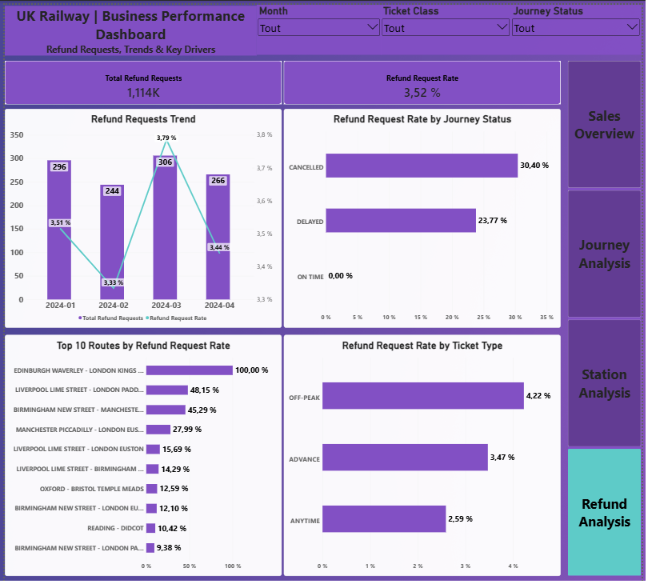

The dashboard page shown, as its layout file describes it:
{"tool":"powerbi","page":{"name":"Refund Analysis","canvas":[2200,2000],"ordinal":3},"visuals":[{"type":"lineClusteredColumnComboChart","title":"Refund Requests Trend","fields":{"Category":["gold dim_purchase_date.Year_Month"],"Y":["Measure_Table.Total Refund Requests"],"Y2":["Measure_Table.Refund Request Rate"]},"box":[0,360,956.7,756.7],"z":0},{"type":"clusteredBarChart","title":"Refund Request Rate by Journey Status","fields":{"Category":["gold fact_sales.Journey_Status"],"Y":["Measure_Table.Refund Request Rate"]},"box":[963.3,360,956.7,756.7],"z":1000},{"type":"clusteredBarChart","title":"Top 10 Routes by Refund Request Rate","fields":{"Category":["gold fact_sales.Route"],"Y":["Measure_Table.Refund Request Rate"]},"box":[0,1140.3,956.7,833.3],"z":5000},{"type":"slicer","fields":{"Values":["gold dim_purchase_date.Year_Month"]},"box":[870.8,0,430,172.5],"z":6000},{"type":"textbox","box":[0,2.5,870,172],"z":7000},{"type":"slicer","fields":{"Values":["gold dim_tickets.Ticket_Class"]},"box":[1299.2,0,450,172.5],"z":8000},{"type":"slicer","fields":{"Values":["gold fact_sales.Journey_Status"]},"box":[1748.5,0,450,172.5],"z":9000},{"type":"pageNavigator","box":[1946.7,193.3,253.3,1780],"z":10000},{"type":"cardVisual","fields":{"Data":["Measure_Table.Total Refund Requests"]},"box":[0,193.3,956.7,150],"z":11000},{"type":"cardVisual","fields":{"Data":["Measure_Table.Refund Request Rate"]},"box":[963.3,193.3,956.7,150],"z":12000},{"type":"clusteredBarChart","title":"Refund Request Rate by Ticket Type","fields":{"Category":["gold dim_tickets.Ticket_Type"],"Y":["Measure_Table.Refund Request Rate"]},"box":[963.3,1140,956.7,833.3],"z":12001}]}

Visuals, with their boxes in screenshot pixels (x1, y1, x2, y2), scaled from the page's 2200x2000 canvas onto the 646x581 screenshot:
"Refund Requests Trend" lineClusteredColumnComboChart: Rect(0, 105, 281, 324)
"Refund Request Rate by Journey Status" clusteredBarChart: Rect(283, 105, 564, 324)
"Top 10 Routes by Refund Request Rate" clusteredBarChart: Rect(0, 331, 281, 573)
slicer - gold dim_purchase_date.Year_Month: Rect(256, 0, 382, 50)
textbox: Rect(0, 1, 255, 51)
slicer - gold dim_tickets.Ticket_Class: Rect(381, 0, 514, 50)
slicer - gold fact_sales.Journey_Status: Rect(513, 0, 645, 50)
pageNavigator: Rect(572, 56, 645, 573)
cardVisual - Measure_Table.Total Refund Requests: Rect(0, 56, 281, 100)
cardVisual - Measure_Table.Refund Request Rate: Rect(283, 56, 564, 100)
"Refund Request Rate by Ticket Type" clusteredBarChart: Rect(283, 331, 564, 573)
